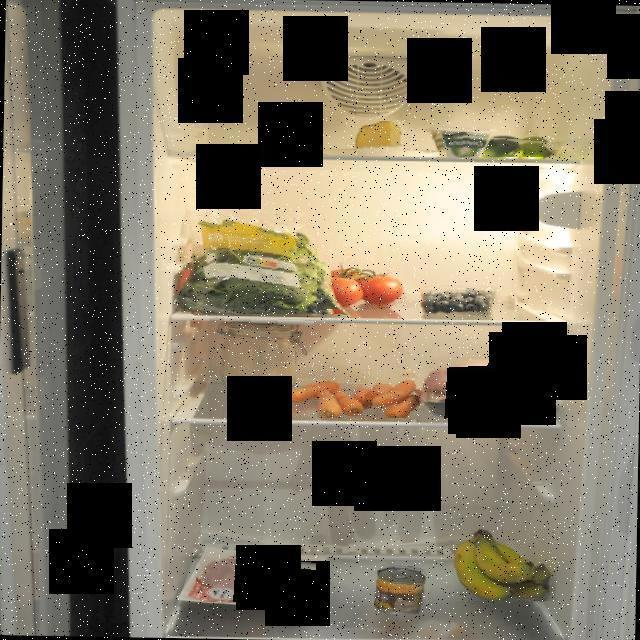banana: (446, 526, 556, 602)
blueberries: (420, 288, 500, 318)
carrot: (288, 366, 424, 418)
cheese: (354, 122, 406, 156)
chicken: (420, 358, 544, 421)
corn: (374, 564, 430, 614)
flour: (210, 318, 314, 398)
goat_cheese: (432, 122, 490, 157)
ham: (196, 554, 316, 602)
lime: (463, 135, 558, 157)
spinach: (178, 203, 346, 314)
tomato: (317, 262, 408, 310)
